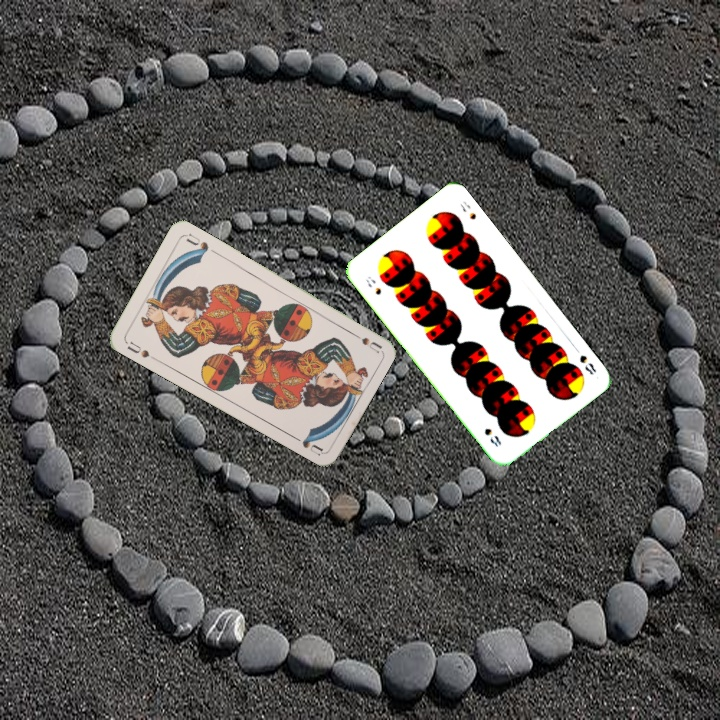S8: (575, 351, 599, 377), (362, 272, 384, 297)
SU: (345, 327, 383, 354), (123, 337, 159, 363)
